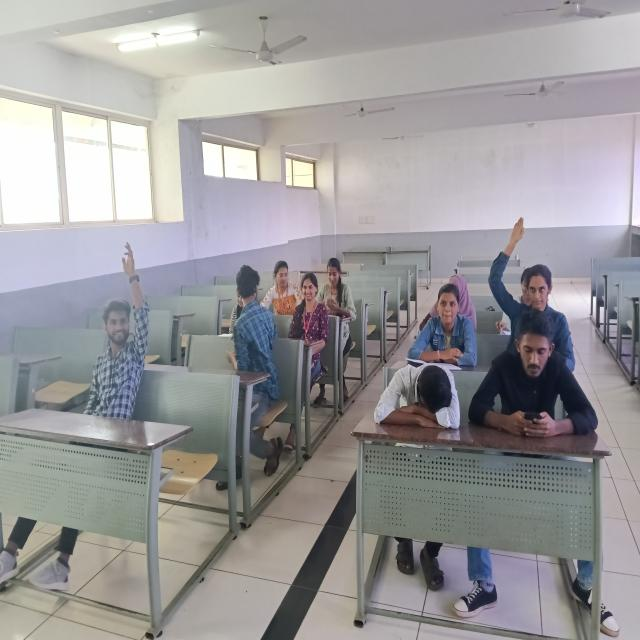Hand Rising: (66, 200, 184, 438), (492, 198, 580, 344)
Reading: (211, 279, 259, 341)
Sleeping: (361, 347, 492, 466)
Using Phone: (476, 322, 584, 451)
